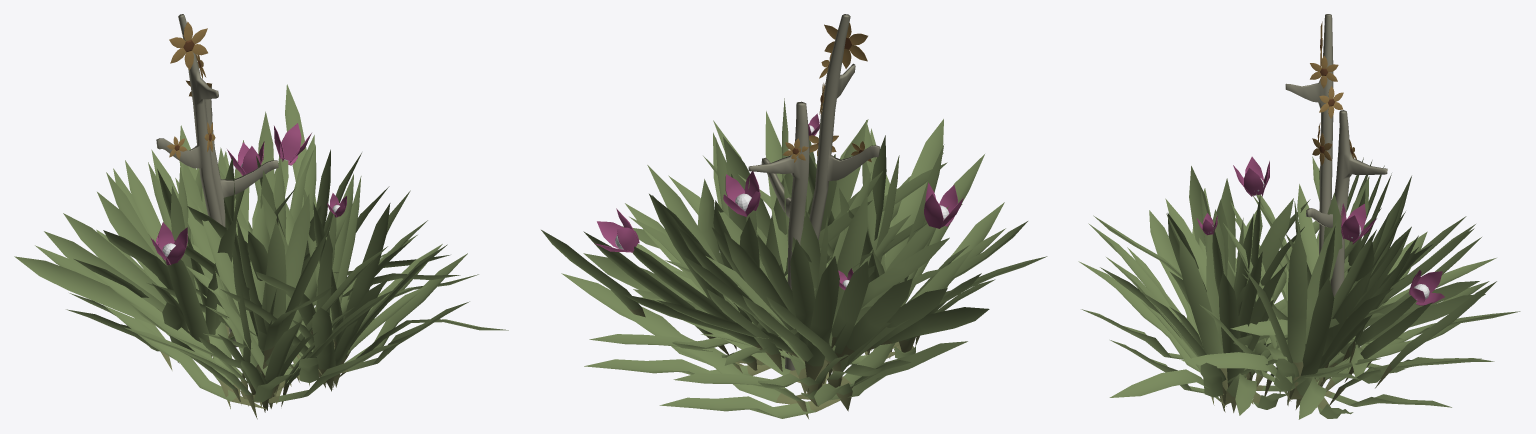
File: PlantD.fbx
3 renders of one model, left to right at view 1: azimuth 30°, elevation 25°; view 2: azimuth 150°, elevation 25°; view 3: azimuth 270°, elevation 25°, orthographic. The views are drawn at different scales.
Visible parts, largest first — view 1: PlantD; view 2: PlantD; view 3: PlantD.
Part boxes in pixels (box(x1,y1,x2,y2)): PlantD: box(14, 14, 508, 419); PlantD: box(541, 14, 1047, 418); PlantD: box(1078, 14, 1520, 419).
Bounding box in the file's own units: 1.49 × 1.28 × 1.45.
